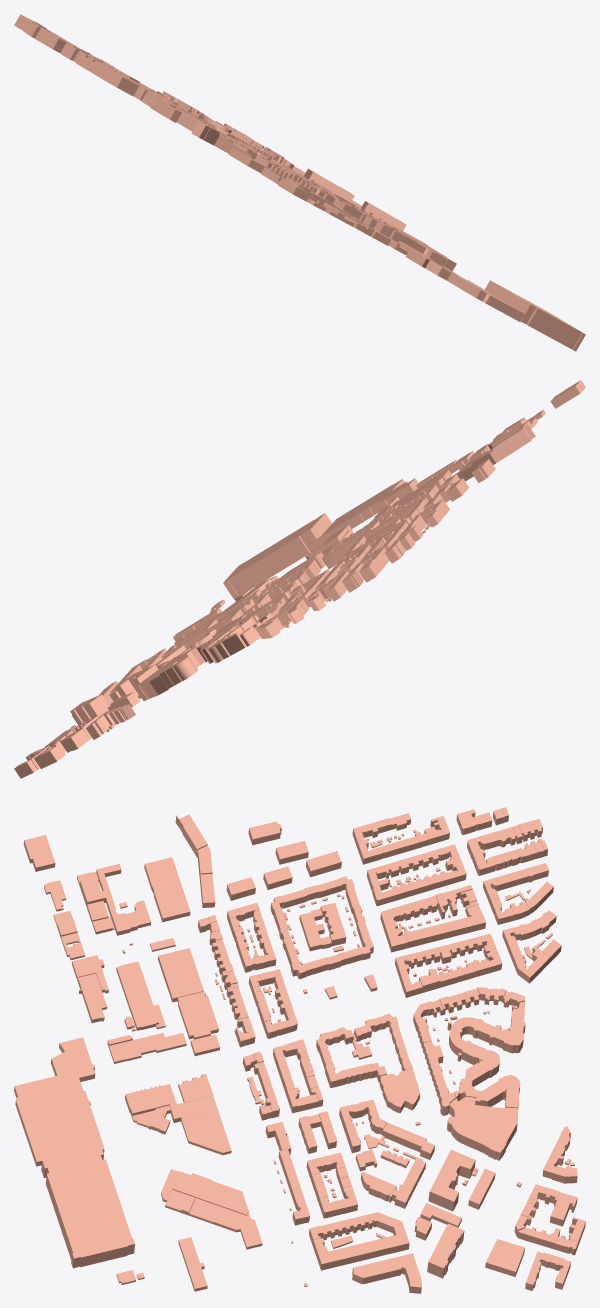
The picture shows the model from 3 angles, top to bottom: view 1: azimuth 30°, elevation 25°; view 2: azimuth 150°, elevation 25°; view 3: azimuth 270°, elevation 25°; orthographic projection. The views are drawn at different scales.
Size of the model in its own units: 508 by 389 by 649.
